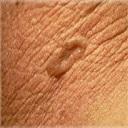Carcinoma: (47, 36, 89, 78)
